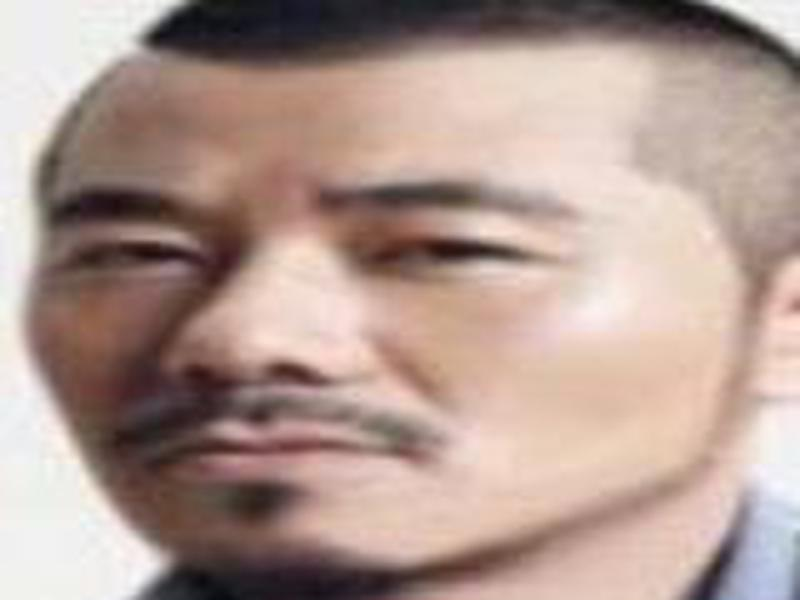without_mask: (17, 38, 745, 587)
